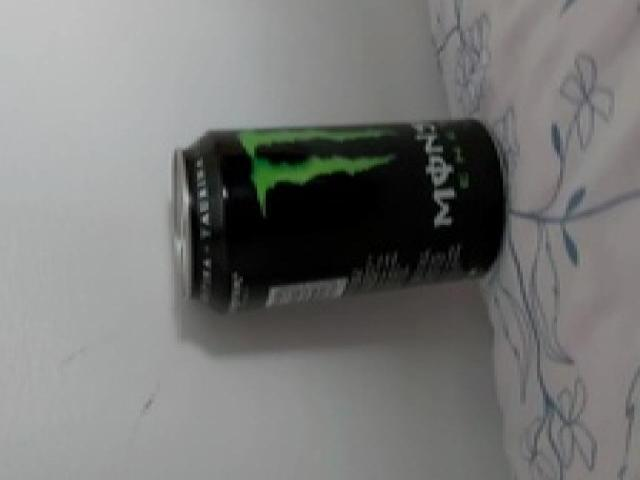Canned_drinks: (172, 119, 509, 317)
